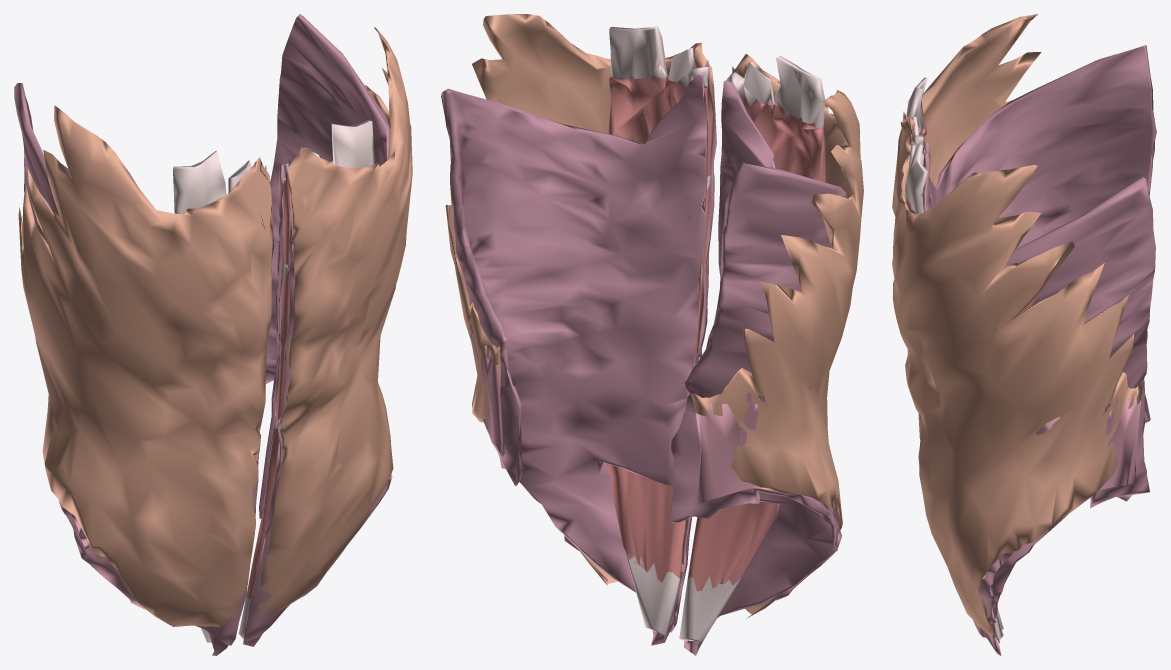
Rendered from meshopt-05-nm.glb.
3 views of the same model, side by side, from view 1: azimuth 30°, elevation 25°; view 2: azimuth 150°, elevation 25°; view 3: azimuth 270°, elevation 25° (orthographic). The views are drawn at different scales.
Parts seen in each view (by area): view 1: external_r, external_l, transversus_l, rectus_l, internal_l, rectus_r, transversus_r, internal_r; view 2: transversus_l, transversus_r, external_r, rectus_l, rectus_r, external_l, internal_r, internal_l; view 3: external_l, transversus_r, transversus_l, external_r, internal_l, rectus_l, rectus_r.
Part boxes in pixels (x1,y1,x2,y2): external_r: (18,105,272,626); external_l: (257,27,412,615); transversus_l: (243,14,390,646); rectus_l: (238,120,374,638); internal_l: (244,158,392,641); rectus_r: (173,150,251,642); transversus_r: (14,83,228,655); internal_r: (48,165,274,645); transversus_l: (441,74,707,645); transversus_r: (669,80,846,655); external_r: (691,54,863,618); rectus_l: (606,26,712,635); rectus_r: (679,55,825,641); external_l: (445,14,715,585); internal_r: (695,66,841,617); internal_l: (468,59,716,632); external_l: (892,136,1144,636); transversus_r: (923,45,1156,423); transversus_l: (923,152,1155,655); external_r: (892,14,1041,439); internal_l: (921,190,1141,638); rectus_l: (905,143,1003,643); rectus_r: (906,77,1003,629).
Size of the model in its own units: 0.2815 by 0.4379 by 0.1886.
